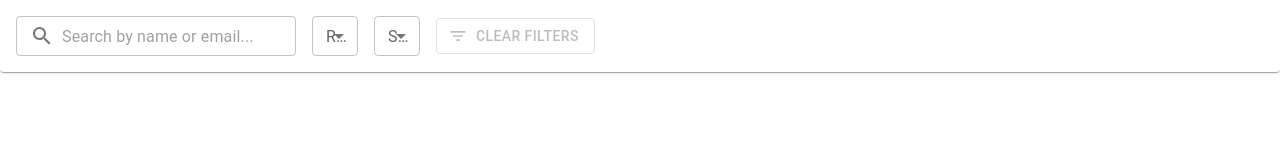
Test: MemberFilters › Search Input › shows clear search button when search has value
Type "test" into the field with placeholder "Search by name or email..." at (179,36), box left=62, top=16, right=296, bottom=56
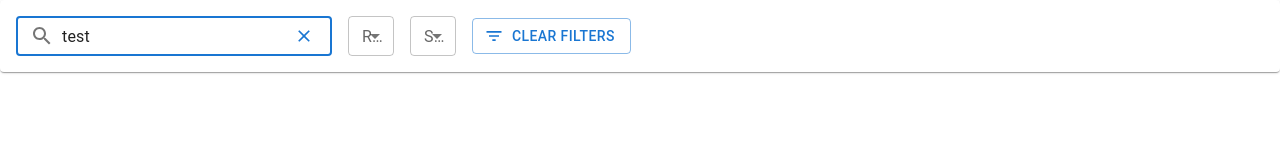
Result: the button named "clear search" is shown at left=290, top=22, right=318, bottom=50
